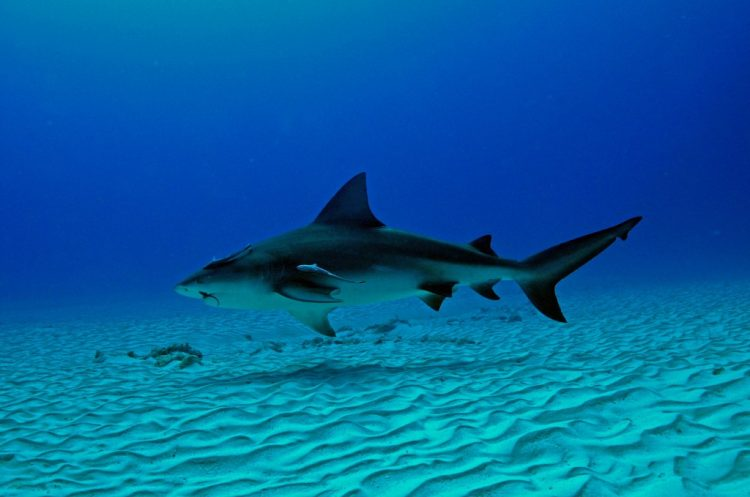shark: (169, 160, 659, 340)
